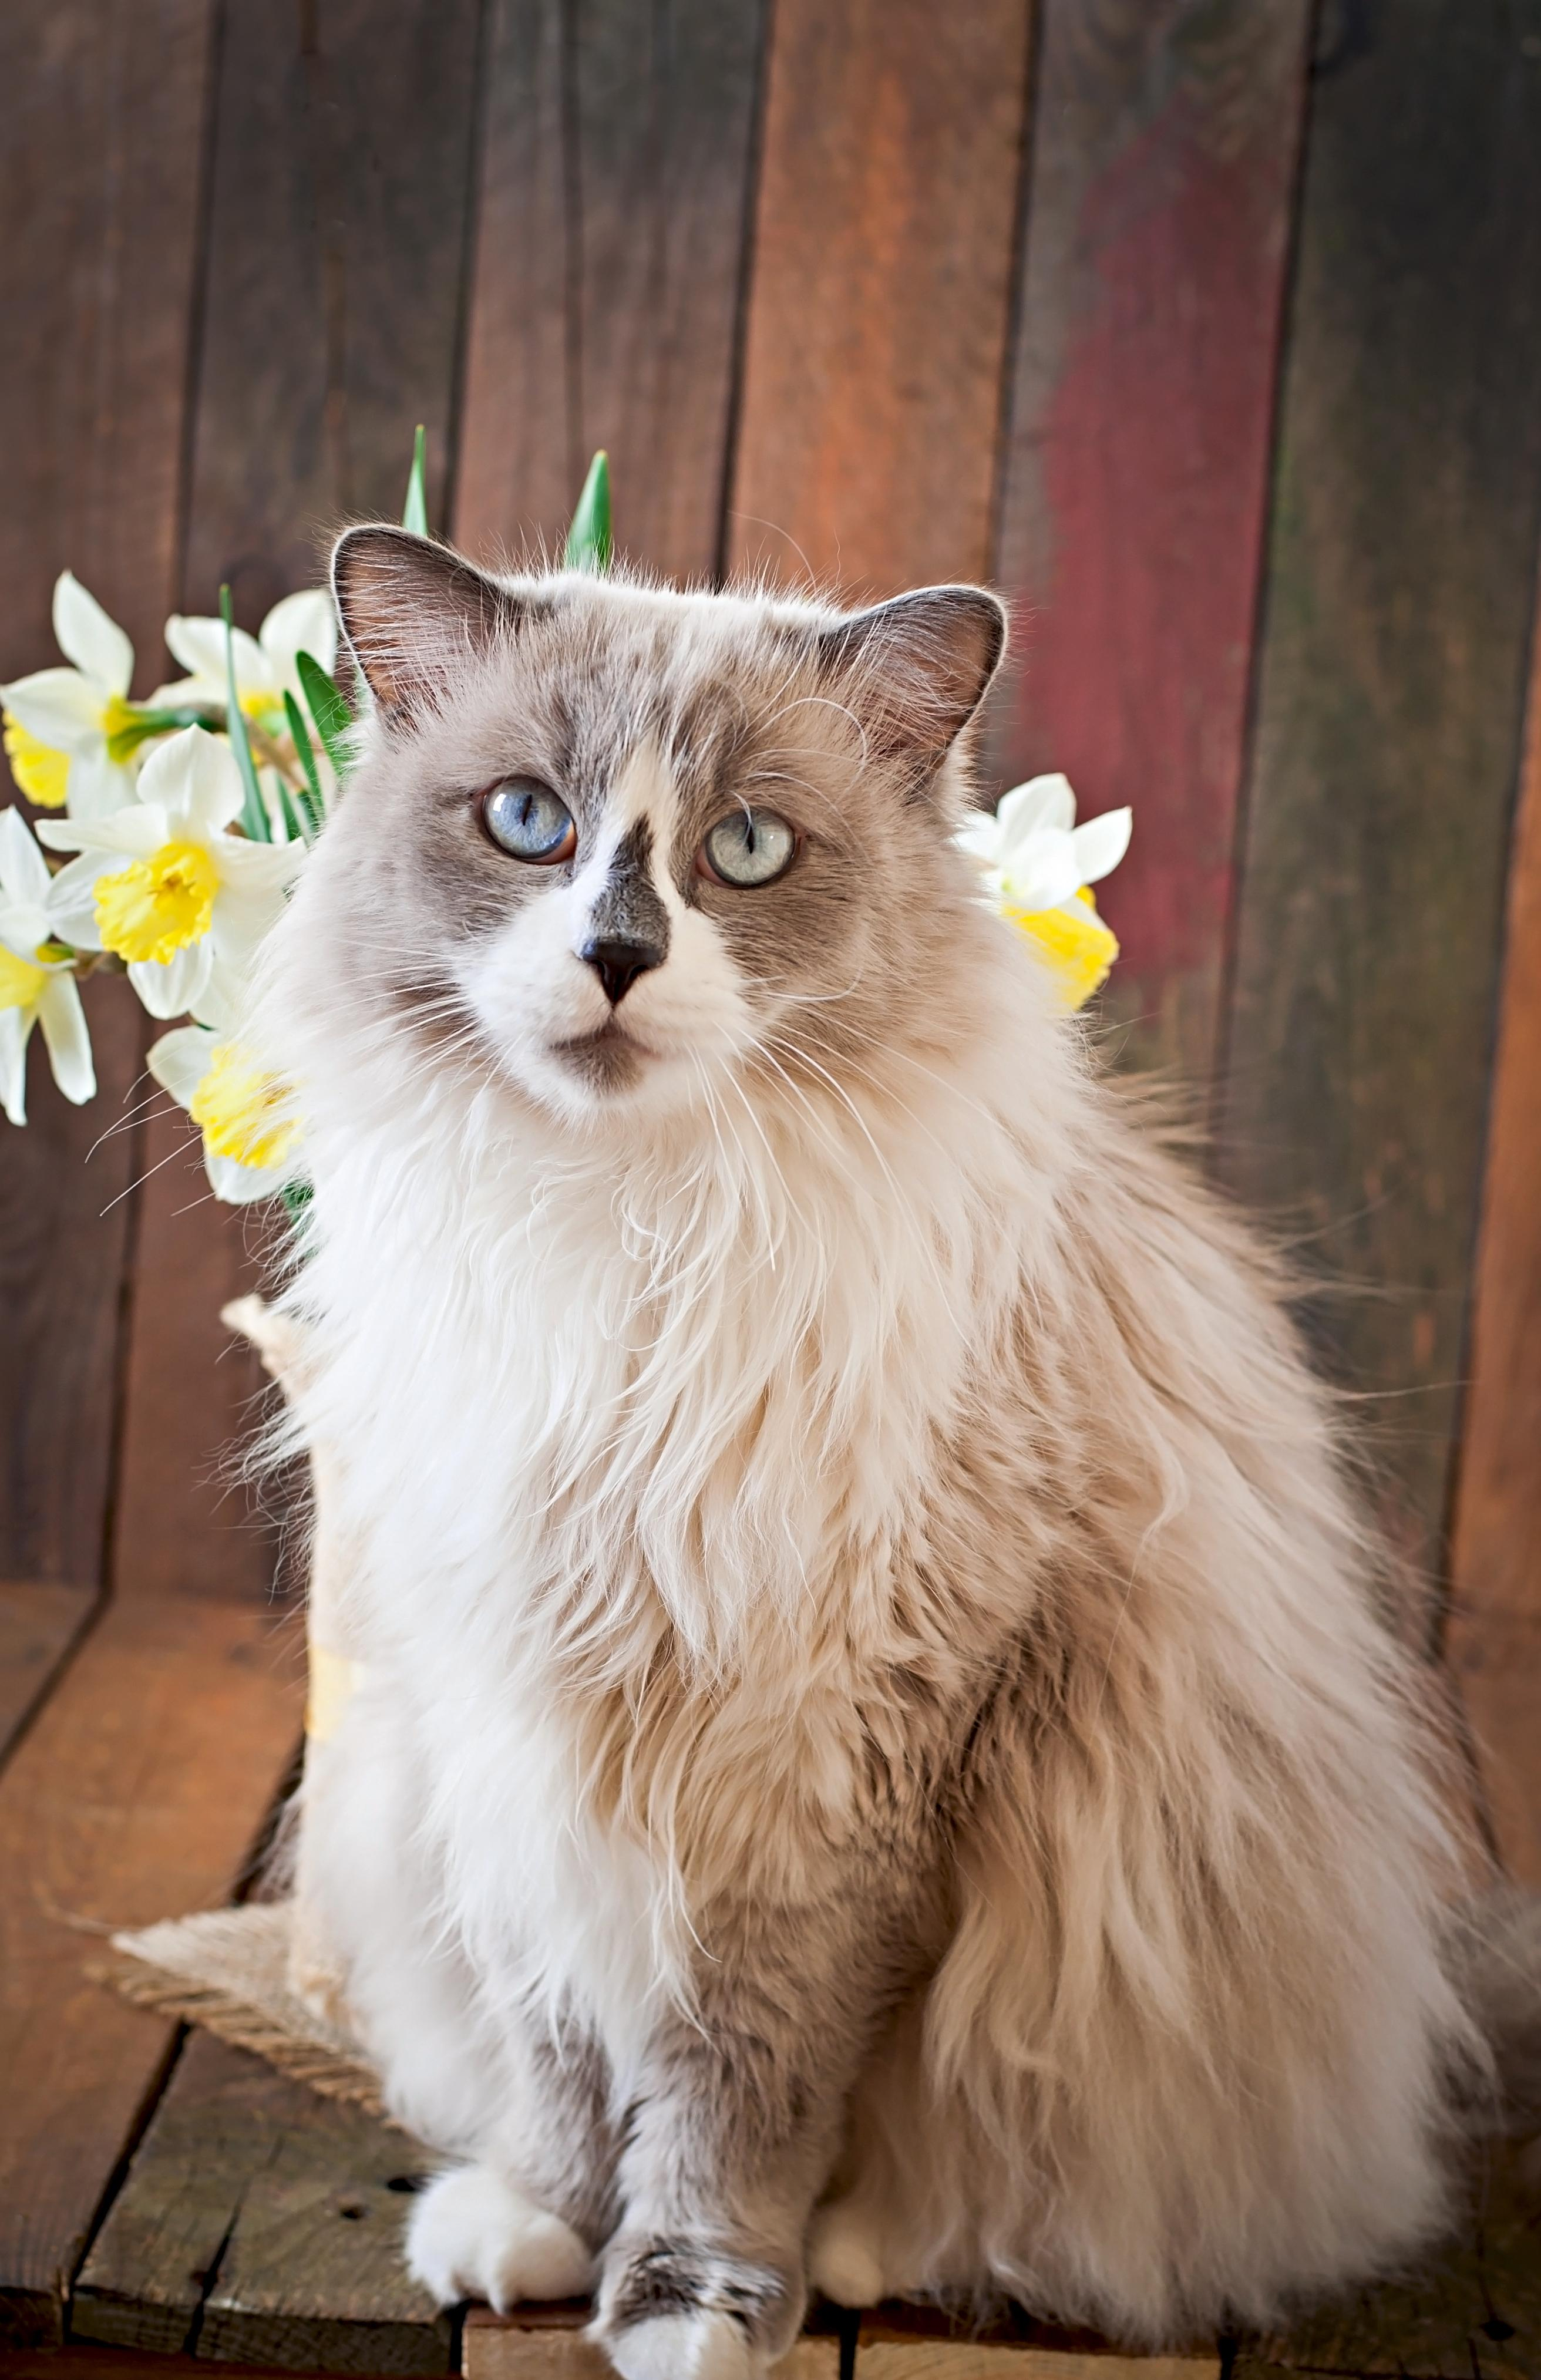ragdoll: (283, 442, 1041, 1242)
